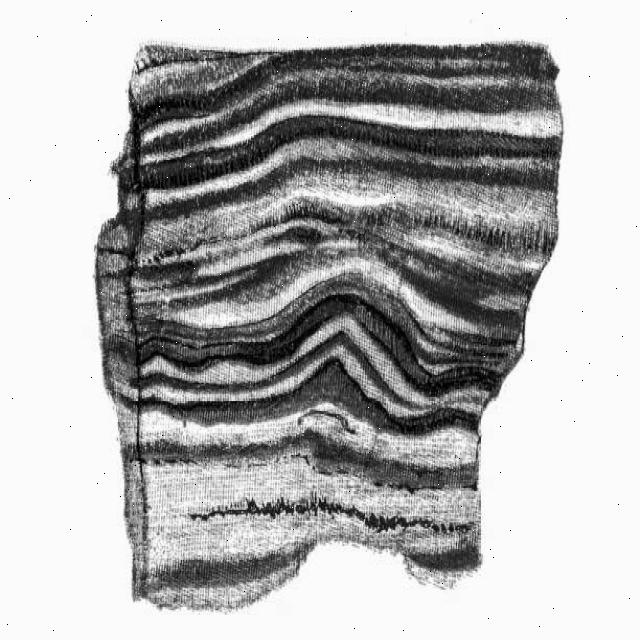Sedimentary: (98, 30, 560, 607)
